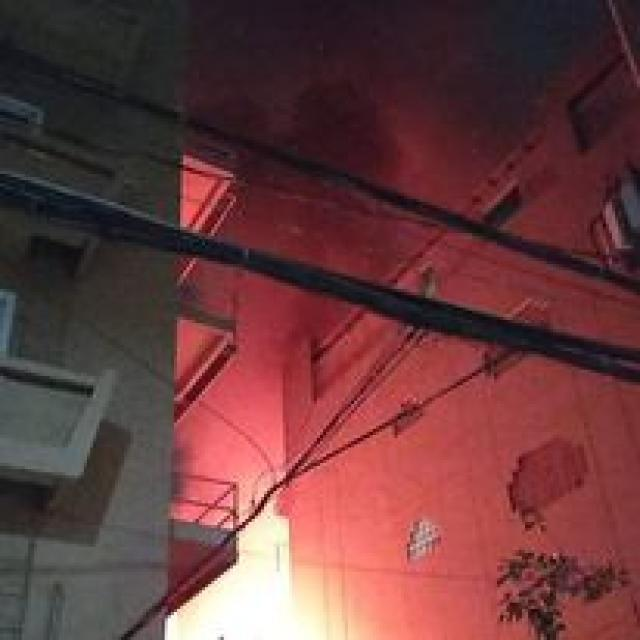Fire: (174, 505, 318, 640)
